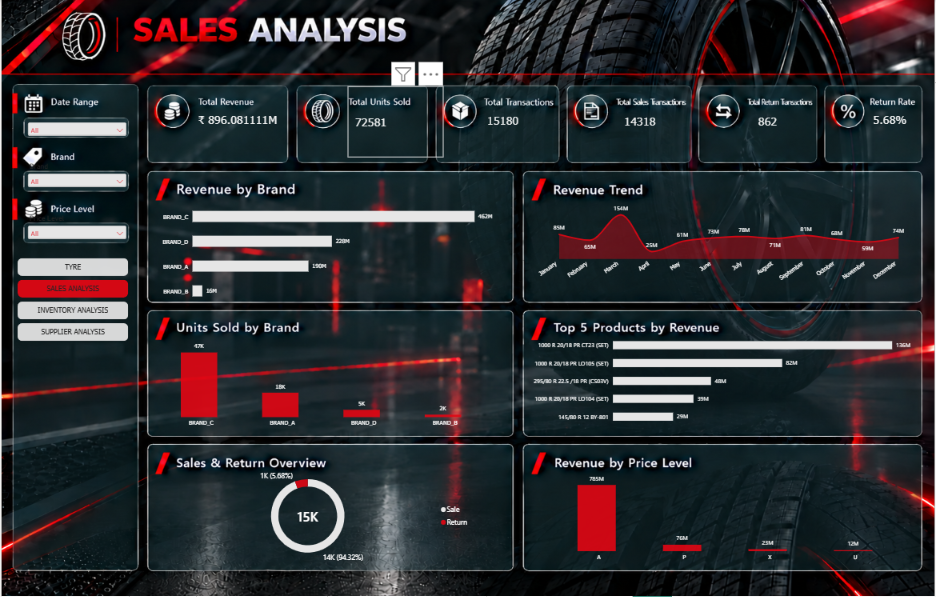

The dashboard page shown, as its layout file describes it:
{"tool":"powerbi","page":{"name":"SALES ANALYSIS","canvas":[1940,1240],"ordinal":1},"visuals":[{"type":"cardVisual","fields":{"Data":["Sales.Total Revenue"]},"box":[393.1,164.3,220.5,172.6],"z":0},{"type":"cardVisual","fields":{"Data":["Sales.Total Unit Sold"]},"box":[719.6,180.9,199.7,147.7],"z":1000},{"type":"cardVisual","fields":{"Data":["Sales.Total Transactions"]},"box":[994.1,176.8,197.6,149.7],"z":2000},{"type":"cardVisual","fields":{"Data":["Sales.Total Sales Transaction"]},"box":[1279.1,183,218.4,139.3],"z":3000},{"type":"cardVisual","fields":{"Data":["Sales.Total Return Transaction"]},"box":[1557.7,187.2,168.5,131],"z":4000},{"type":"cardVisual","fields":{"Data":["Sales.Return Rate"]},"box":[1796.9,195.5,143.5,110.2],"z":5000},{"type":"barChart","fields":{"Category":["Sales.Brand"],"Y":["Sum(Sales.Revenue (INR))"]},"box":[309.9,397.2,738.3,260],"z":6000},{"type":"areaChart","fields":{"Category":["Sales.Date.Variation.Date Hierarchy.Month"],"Y":["Sum(Sales.Revenue (INR))"]},"box":[1094,397.2,813.2,222.5],"z":7000},{"type":"columnChart","fields":{"Category":["Sales.Brand"],"Y":["Sum(Sales.Units Sold)"]},"box":[289.1,688.4,759.1,220.5],"z":8000},{"type":"barChart","fields":{"Category":["Sales.Product Name"],"Y":["Sum(Sales.Revenue (INR))"]},"box":[1077.3,673.8,829.8,235],"z":9000},{"type":"donutChart","fields":{"Category":["Sales.Transaction Type"],"Y":["Sales.Total Transactions"]},"box":[345.2,962.9,648.9,224.6],"z":10000},{"type":"columnChart","fields":{"Category":["Sales.Price Level"],"Y":["Sum(Sales.Revenue (INR))"]},"box":[1110.6,962.9,796.6,224.6],"z":11000},{"type":"slicer","fields":{"Values":["Sales.Date.Variation.Date Hierarchy.Year"]},"box":[49.9,251.7,214.2,35.4],"z":12000},{"type":"slicer","fields":{"Values":["Sales.Brand"]},"box":[49.9,339,214.2,74.9],"z":13000},{"type":"slicer","fields":{"Values":["Sales.Price Level"]},"box":[49.9,447.1,214.2,91.5],"z":14000},{"type":"pageNavigator","box":[33.3,538.7,230.9,172.6],"z":15000}]}

Visuals, with their boxes in screenshot pixels (x1, y1, x2, y2), scaled from the page's 1940x1240 canvas onto the 936x597 screenshot:
cardVisual - Sales.Total Revenue: (190,79,296,162)
cardVisual - Sales.Total Unit Sold: (347,87,444,158)
cardVisual - Sales.Total Transactions: (480,85,575,157)
cardVisual - Sales.Total Sales Transaction: (617,88,723,155)
cardVisual - Sales.Total Return Transaction: (752,90,833,153)
cardVisual - Sales.Return Rate: (867,94,935,147)
barChart - Sales.Brand x Sum(Sales.Revenue (INR)): (150,191,506,316)
areaChart - Sales.Date.Variation.Date Hierarchy.Month x Sum(Sales.Revenue (INR)): (528,191,920,298)
columnChart - Sales.Brand x Sum(Sales.Units Sold): (139,331,506,438)
barChart - Sales.Product Name x Sum(Sales.Revenue (INR)): (520,324,920,438)
donutChart - Sales.Transaction Type x Sales.Total Transactions: (167,464,480,572)
columnChart - Sales.Price Level x Sum(Sales.Revenue (INR)): (536,464,920,572)
slicer - Sales.Date.Variation.Date Hierarchy.Year: (24,121,127,138)
slicer - Sales.Brand: (24,163,127,199)
slicer - Sales.Price Level: (24,215,127,259)
pageNavigator: (16,259,127,342)
